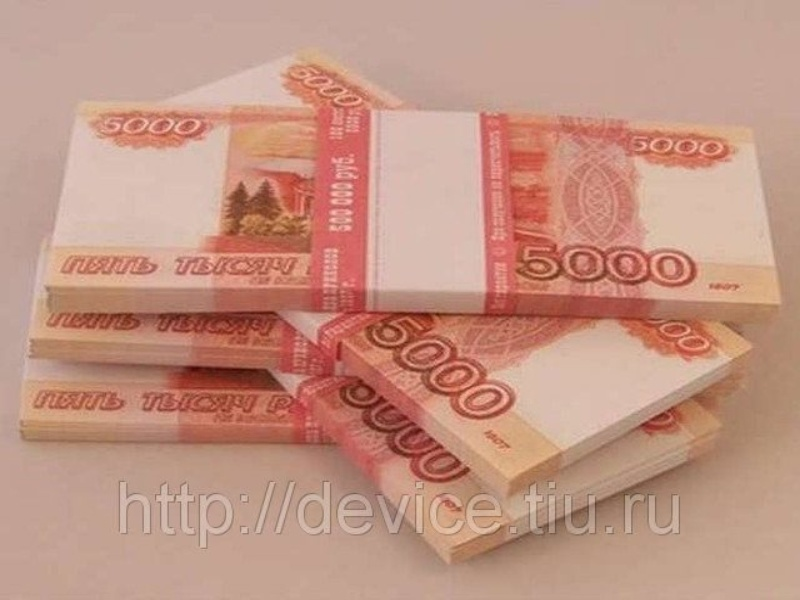cash: (19, 49, 783, 566)
